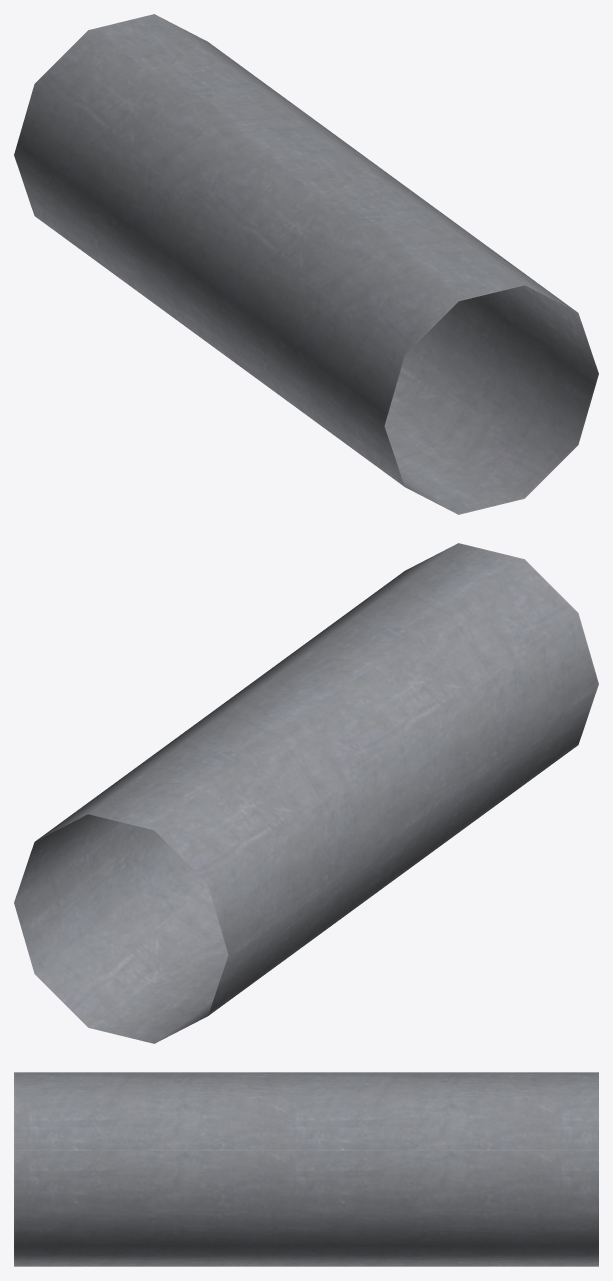
Rendered from p_small_no_cap.FBX.
3 renders of one model, top to bottom at view 1: azimuth 30°, elevation 25°; view 2: azimuth 150°, elevation 25°; view 3: azimuth 270°, elevation 25°, orthographic. The views are drawn at different scales.
Parts seen in each view (by area): view 1: Cylinder016; view 2: Cylinder016; view 3: Cylinder016.
Part boxes in pixels (x1,y1,x2,y2): Cylinder016: (14,14,598,514); Cylinder016: (14,543,598,1043); Cylinder016: (14,1072,598,1266).
Bounding box in the file's own units: 21.4 × 20.35 × 64.
Materials: 1 (1 with a texture image).
